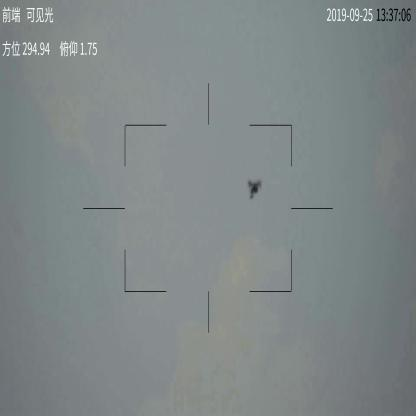uav: (246, 177, 262, 200)
